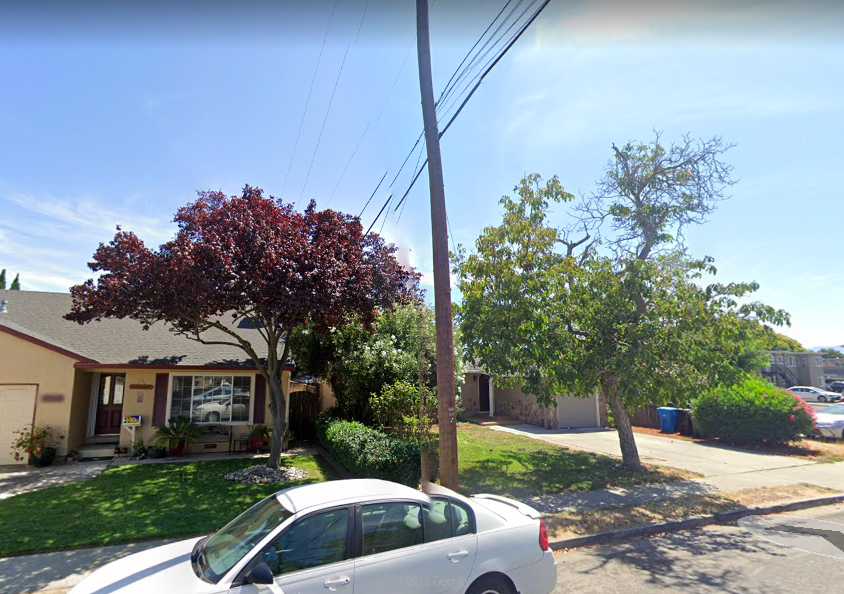tree: (454, 123, 810, 475), (61, 183, 427, 469)
